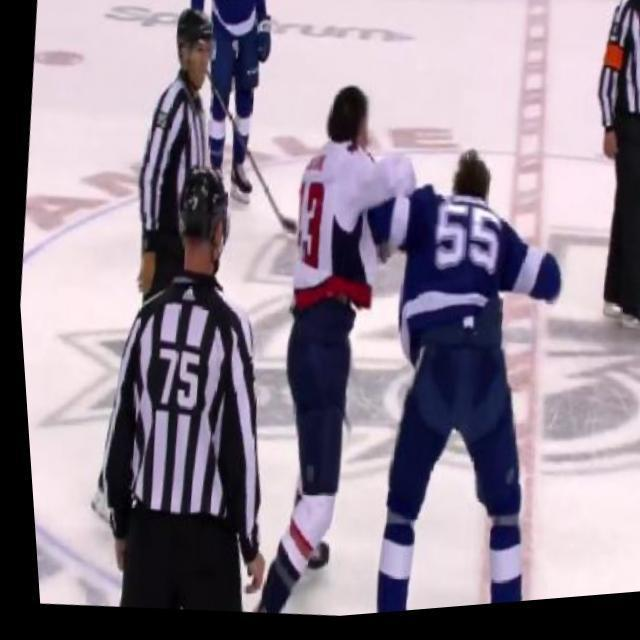fight: (222, 69, 592, 626)
